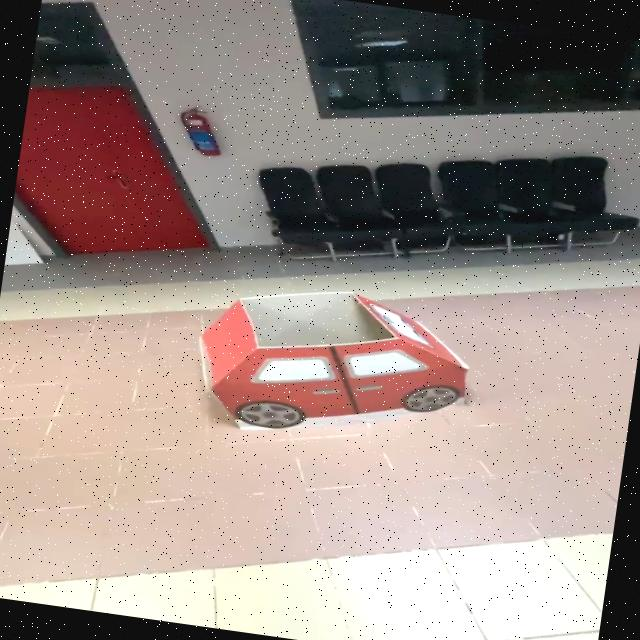red_car: (147, 244, 543, 485)
